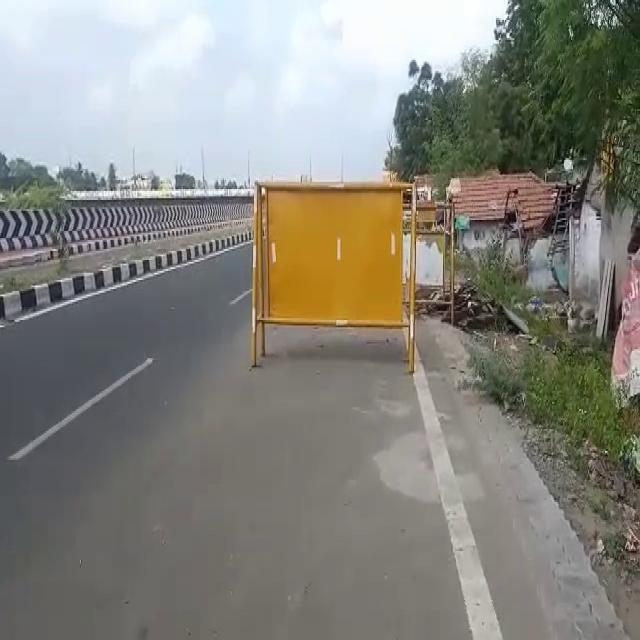fallen_object: (219, 136, 432, 400)
